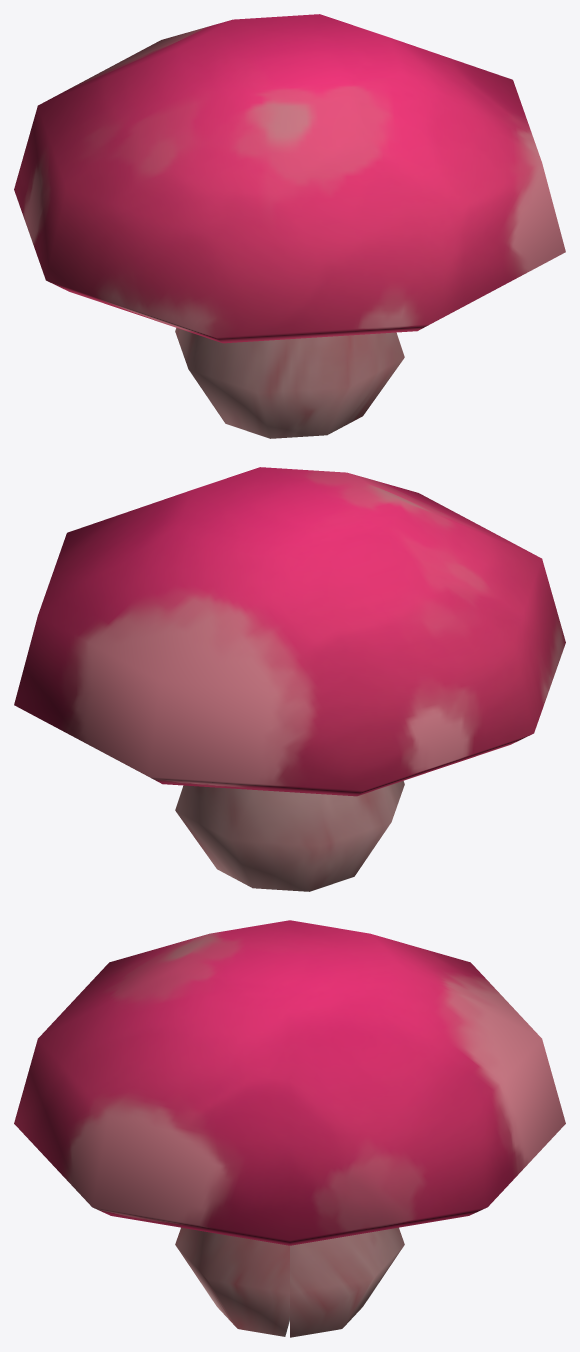
Rendered from PROP_MiniShroom_0.fbx.
3 views of the same model, one above another, from view 1: azimuth 30°, elevation 25°; view 2: azimuth 150°, elevation 25°; view 3: azimuth 270°, elevation 25° (orthographic). The views are drawn at different scales.
Visible parts, largest first — view 1: PROP_MiniShroom_0; view 2: PROP_MiniShroom_0; view 3: PROP_MiniShroom_0.
Part boxes in pixels (<box>): PROP_MiniShroom_0: <box>14,14,565,438</box>; PROP_MiniShroom_0: <box>14,467,565,891</box>; PROP_MiniShroom_0: <box>14,920,565,1337</box>.
Size of the model in its own units: 56.73 by 38.49 by 56.73.
1 material, 1 textured.
